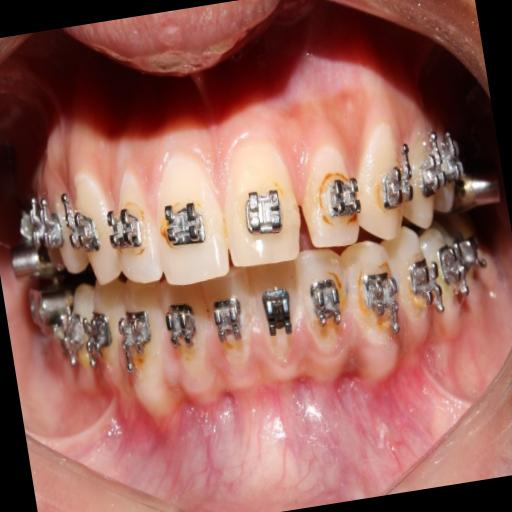correct_brace: (156, 191, 210, 254), (237, 177, 288, 243), (320, 170, 363, 226), (378, 159, 418, 209), (103, 201, 143, 250), (62, 204, 99, 254)
incorrect_brace: (290, 129, 362, 252), (103, 166, 162, 286)
